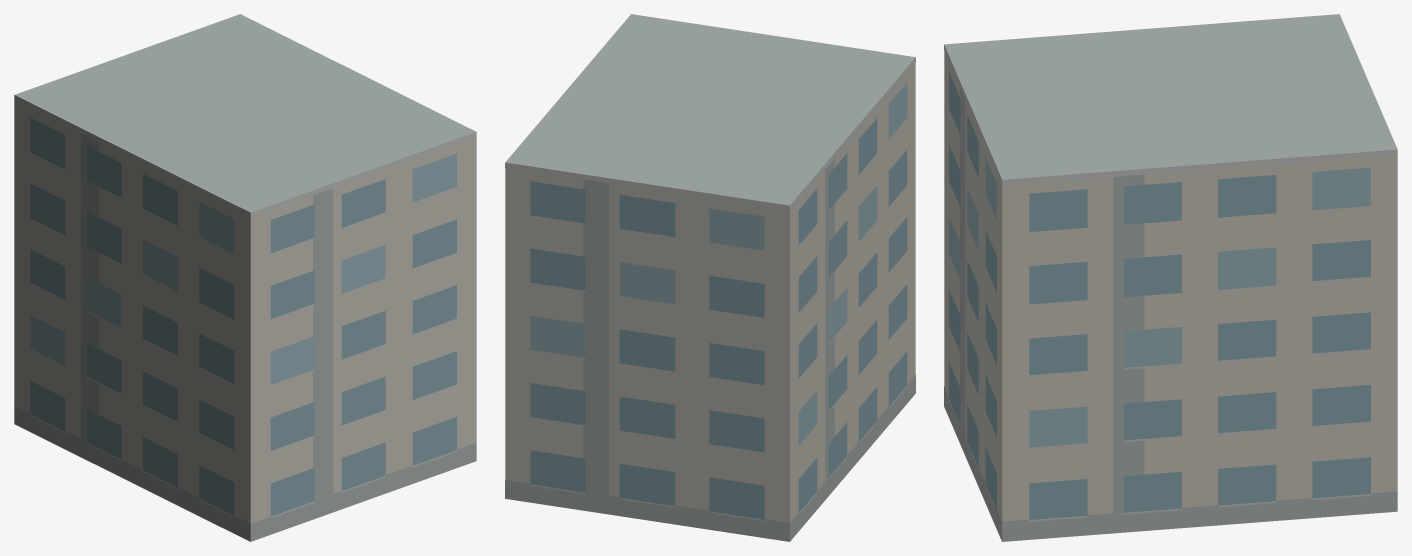
Rendered from residential-6e6f169a-2ead-4858-9178-7e06ddb4ef31.glb.
The picture shows the model from 3 angles, left to right: view 1: azimuth 30°, elevation 25°; view 2: azimuth 150°, elevation 25°; view 3: azimuth 270°, elevation 25°; orthographic projection. The views are drawn at different scales.
Parts seen in each view (by area): view 1: residential-6e6f169a-2ead-4858-9178-7e06ddb4ef31.tmp; view 2: residential-6e6f169a-2ead-4858-9178-7e06ddb4ef31.tmp; view 3: residential-6e6f169a-2ead-4858-9178-7e06ddb4ef31.tmp.
Boxes of the visible parts, x1,y1,x2,y2 form: residential-6e6f169a-2ead-4858-9178-7e06ddb4ef31.tmp: [14, 14, 476, 541]; residential-6e6f169a-2ead-4858-9178-7e06ddb4ef31.tmp: [505, 14, 915, 541]; residential-6e6f169a-2ead-4858-9178-7e06ddb4ef31.tmp: [944, 14, 1397, 541].
Size of the model in its own units: 14.98 by 15.25 by 17.32.
